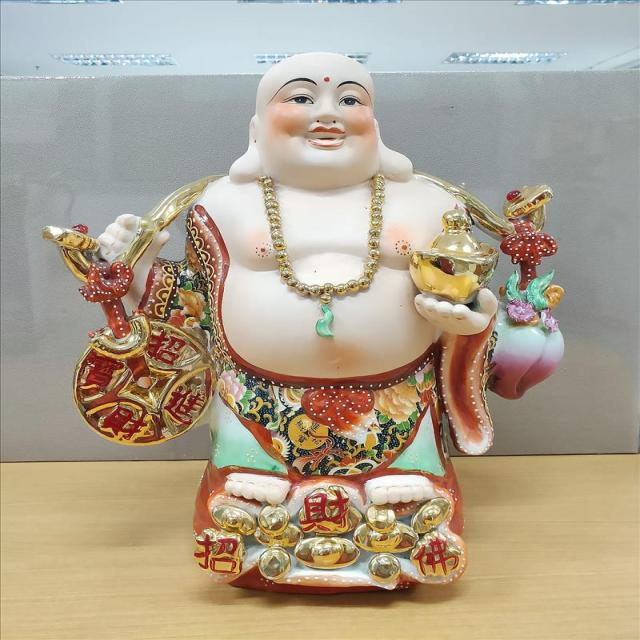Smiling Buddha: (170, 51, 484, 435)
